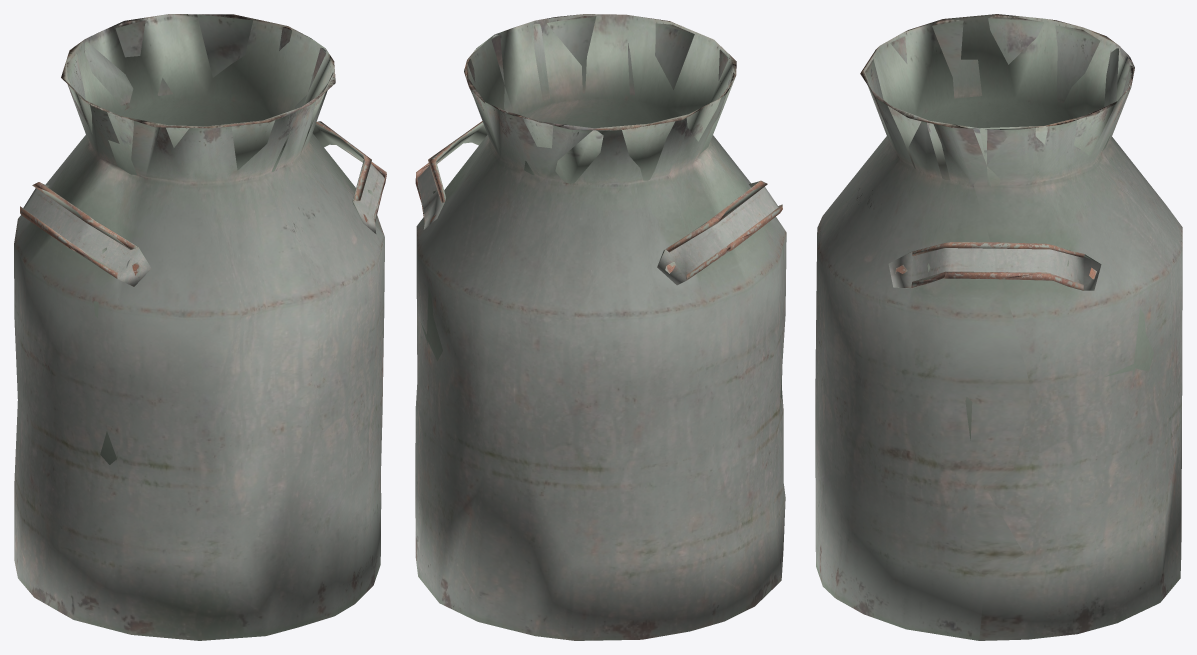
The model's file is MetalJugLOD2.fbx.
3 views of the same model, side by side, from view 1: azimuth 30°, elevation 25°; view 2: azimuth 150°, elevation 25°; view 3: azimuth 270°, elevation 25° (orthographic).
Parts seen in each view (by area): view 1: metal_jug; view 2: metal_jug; view 3: metal_jug.
Part boxes in pixels (bbox=[...]): metal_jug: bbox=[14, 14, 386, 640]; metal_jug: bbox=[415, 14, 786, 640]; metal_jug: bbox=[815, 14, 1182, 640].
Size of the model in its own units: 19.57 by 28.71 by 19.41.
Materials: 1 (1 with a texture image).
